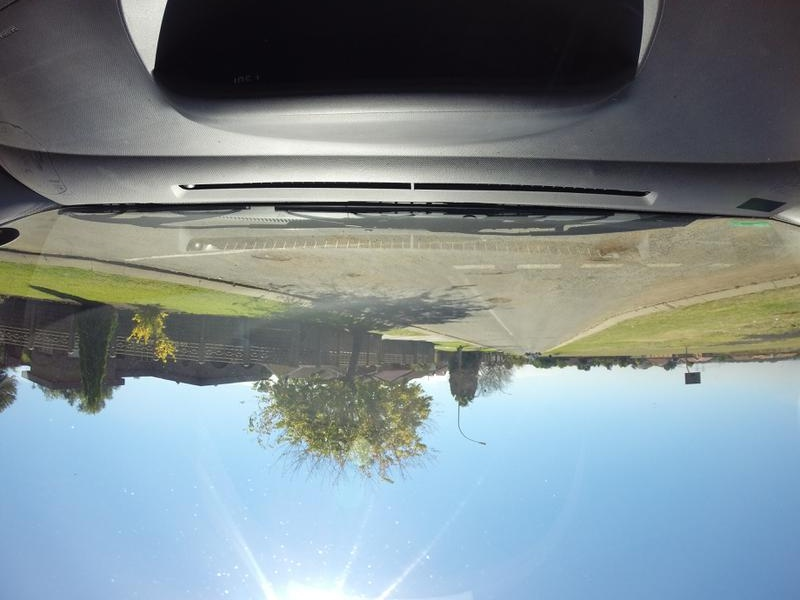pothole: (249, 248, 312, 267), (600, 233, 642, 261), (468, 268, 526, 278), (486, 291, 507, 310)
